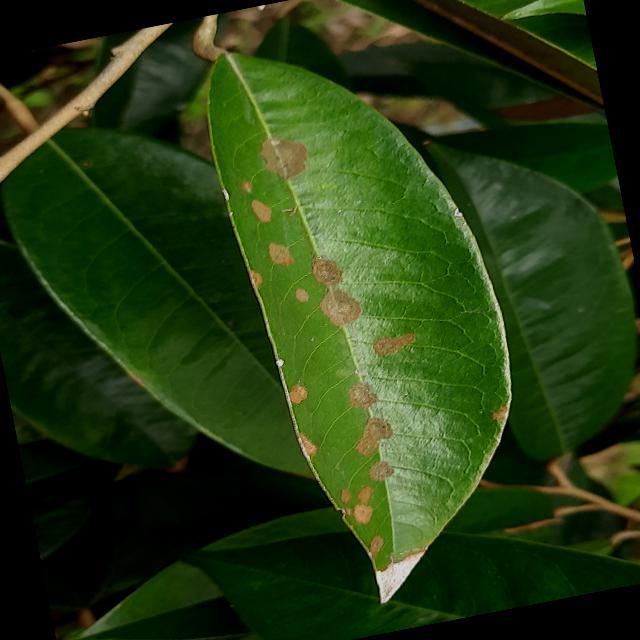Algal Leaf Spot: (192, 4, 562, 622)
